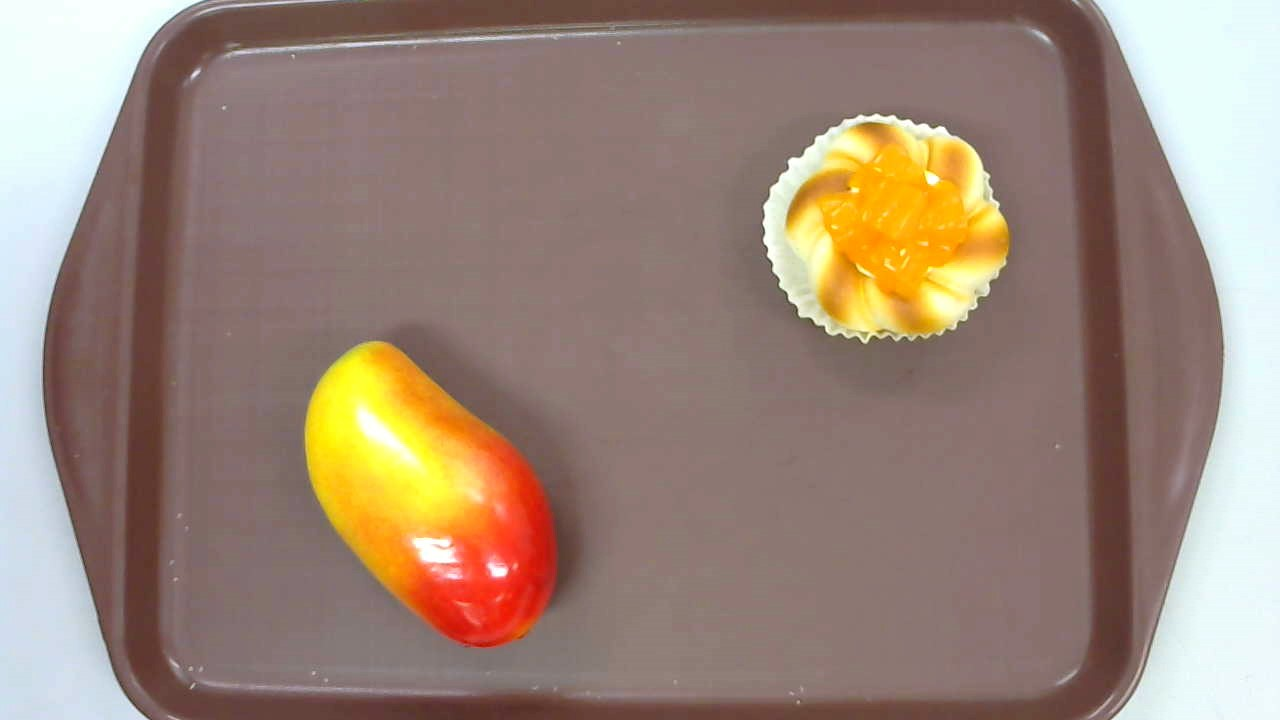mango tart: (761, 112, 1010, 346)
red mango: (303, 340, 559, 647)
